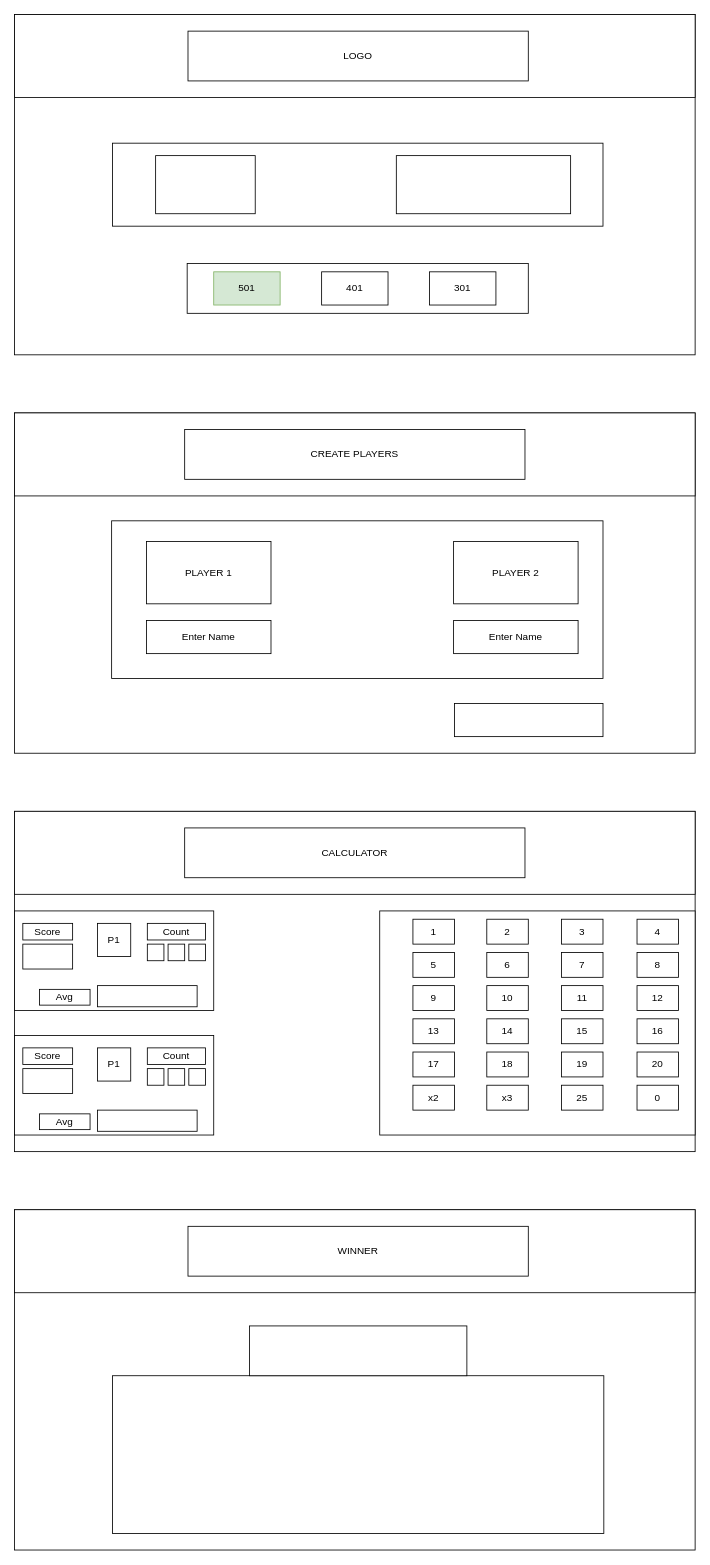
Some shapes in this 710 by 1565 pixel diagram are drawn without their labels. Each missing label, with the centre of its shape:
1 V 1: the point at 205,184
Finish: the point at 528,720
Player has won the game: the point at 358,1350
Start Game: the point at 483,184
